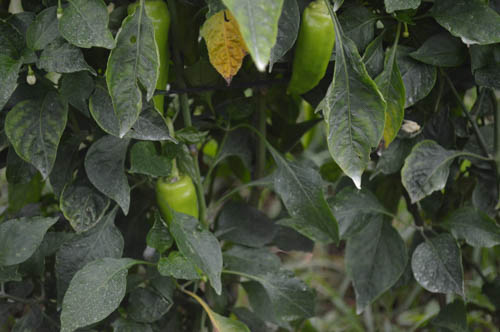ChiliPepper: (127, 3, 172, 116), (292, 10, 334, 99), (157, 175, 197, 244)
